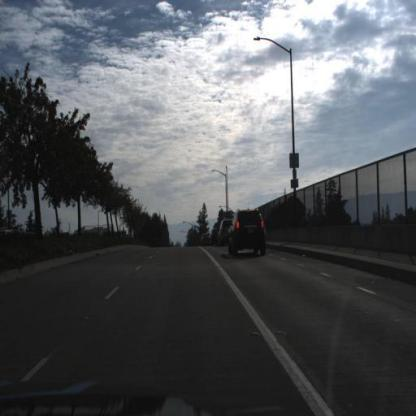car: (228, 208, 270, 259), (217, 217, 235, 247), (209, 227, 220, 245), (213, 226, 220, 246), (202, 234, 210, 247)
